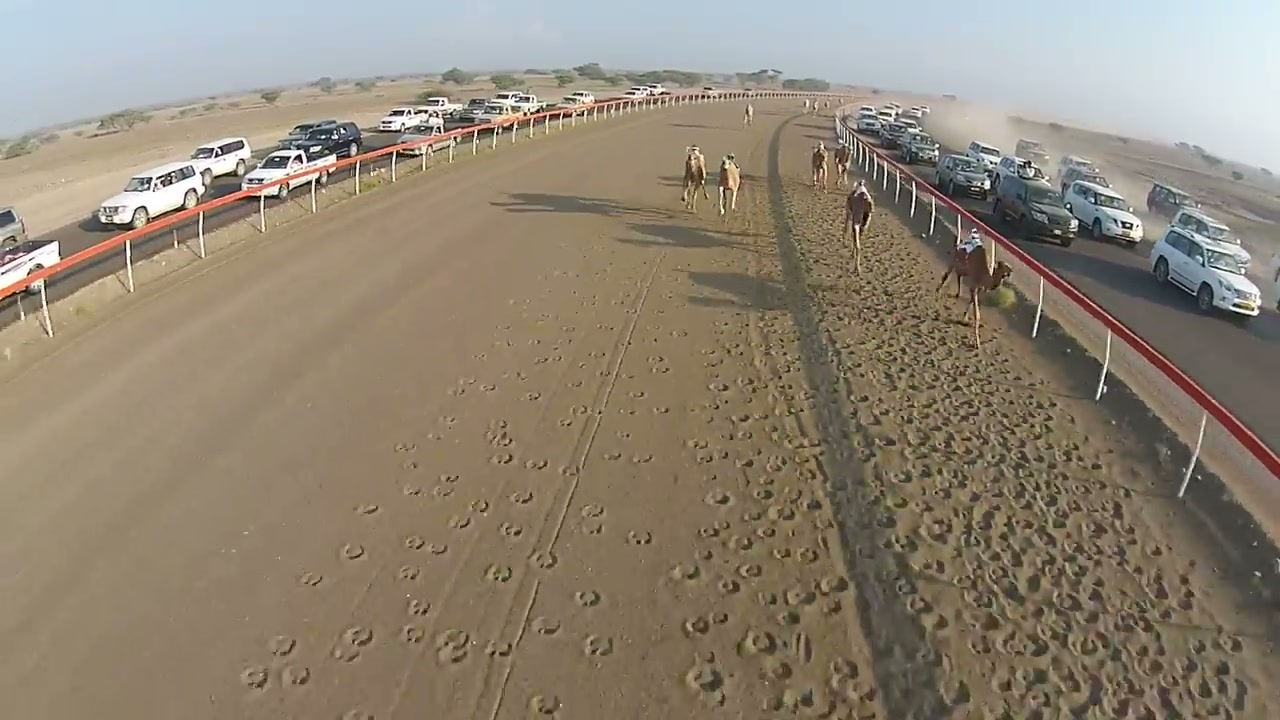animal_footprint: (244, 120, 1268, 717), (782, 188, 1275, 717), (225, 292, 660, 717), (511, 266, 877, 715)
